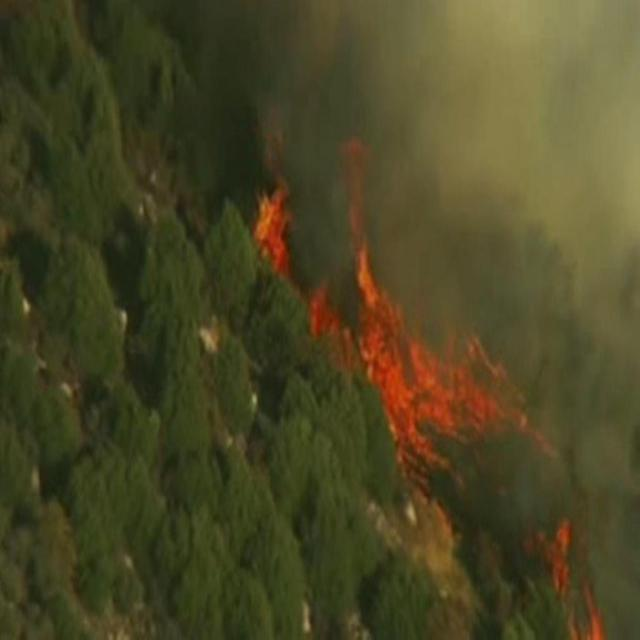Fire: (254, 123, 611, 640)
Smoke: (210, 7, 634, 560)
